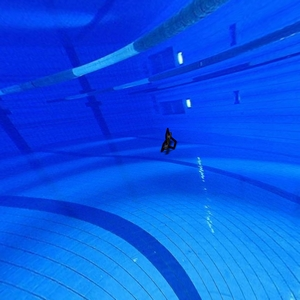submarine: (155, 125, 180, 157)
